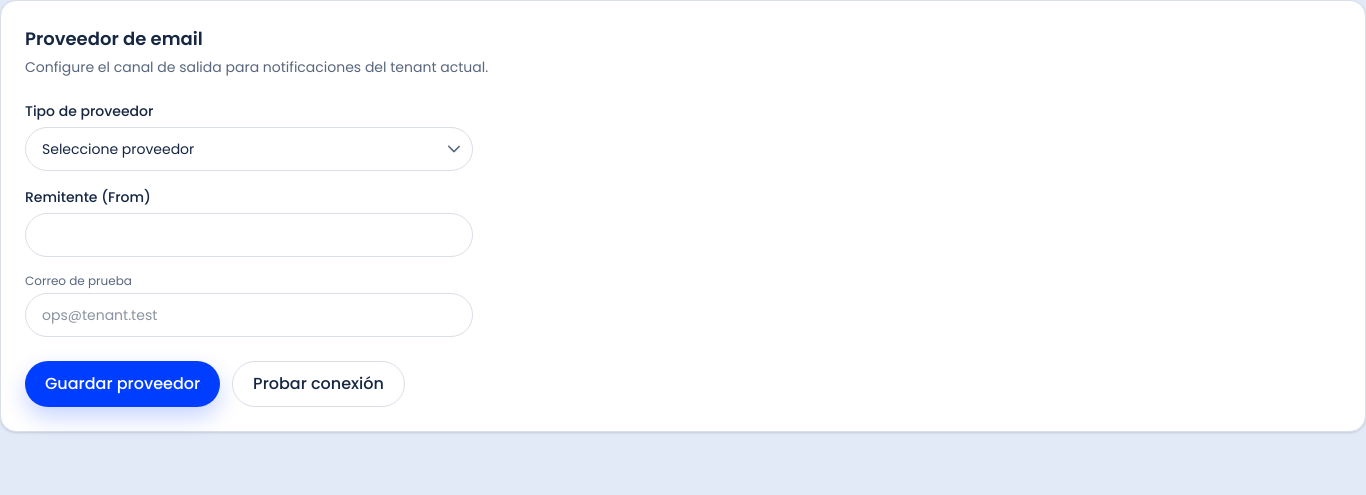
Scenario: ProviderForm › muestra validación inline al guardar sin datos
Click the button with test id "provider-save-btn" at (123, 384), box [25,361,220,407]
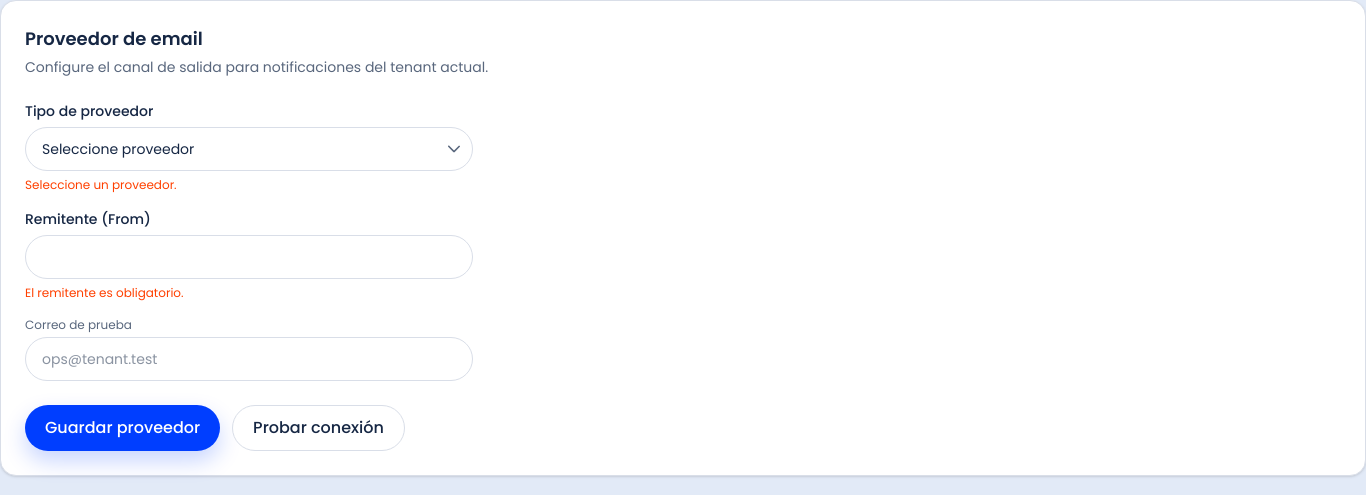
expect the text "Seleccione un proveedor." is shown: met, box [25,176,177,193]
expect the text "El remitente es obligatorio." is shown: met, box [25,284,184,301]
